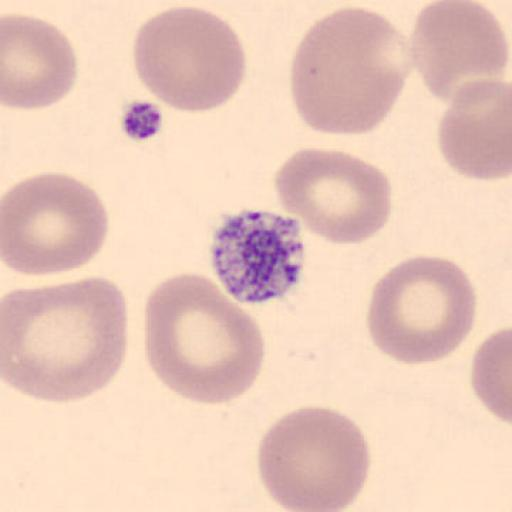Platelet: (206, 206, 309, 306), (118, 95, 168, 143)
RBC: (141, 270, 267, 406), (1, 275, 130, 405), (290, 5, 414, 137), (254, 403, 372, 512), (132, 3, 246, 115), (364, 256, 478, 366), (274, 147, 393, 247), (2, 169, 110, 278), (409, 0, 511, 106), (438, 78, 512, 182), (2, 12, 78, 112), (471, 324, 512, 425)
